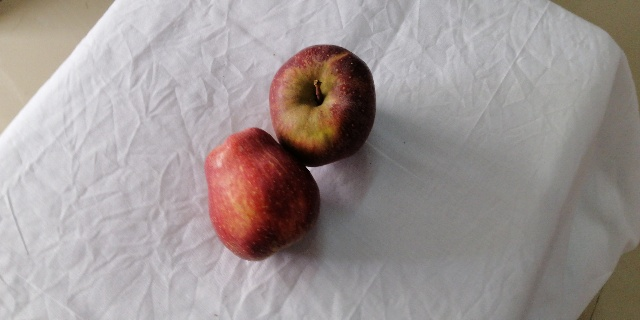apple_kashmir: (200, 126, 323, 261), (268, 37, 380, 169)
